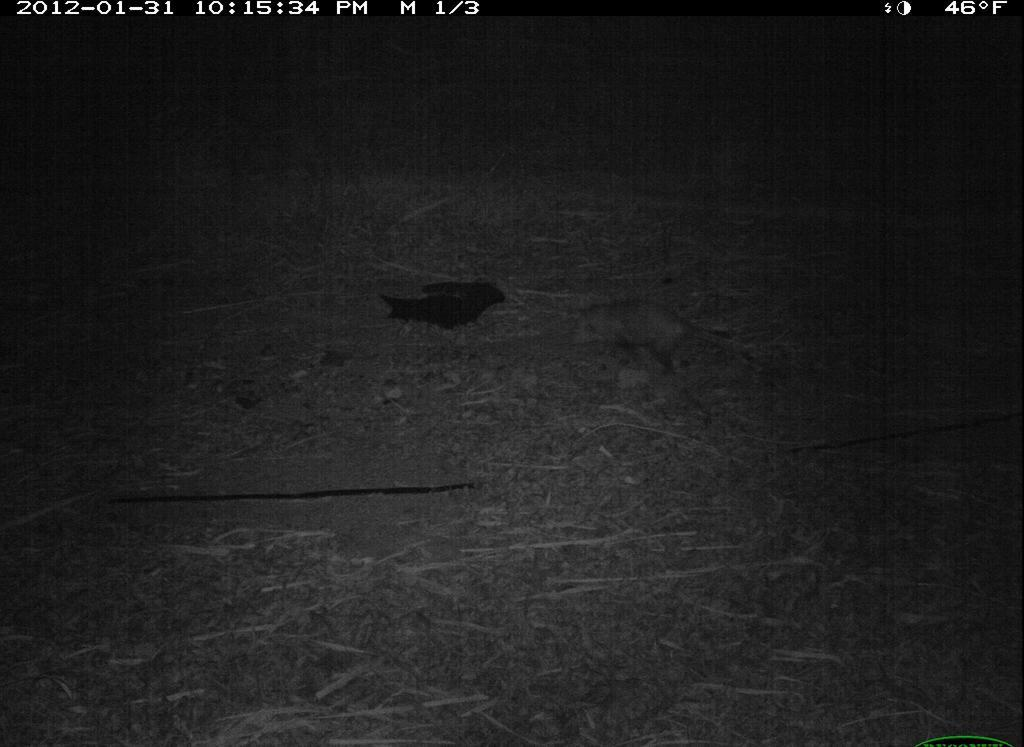opossum: (556, 286, 757, 396)
